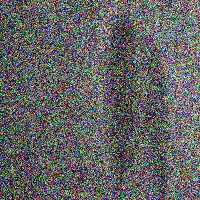inclusion: (97, 12, 141, 198), (141, 41, 174, 198), (51, 1, 66, 43), (172, 31, 185, 69)
